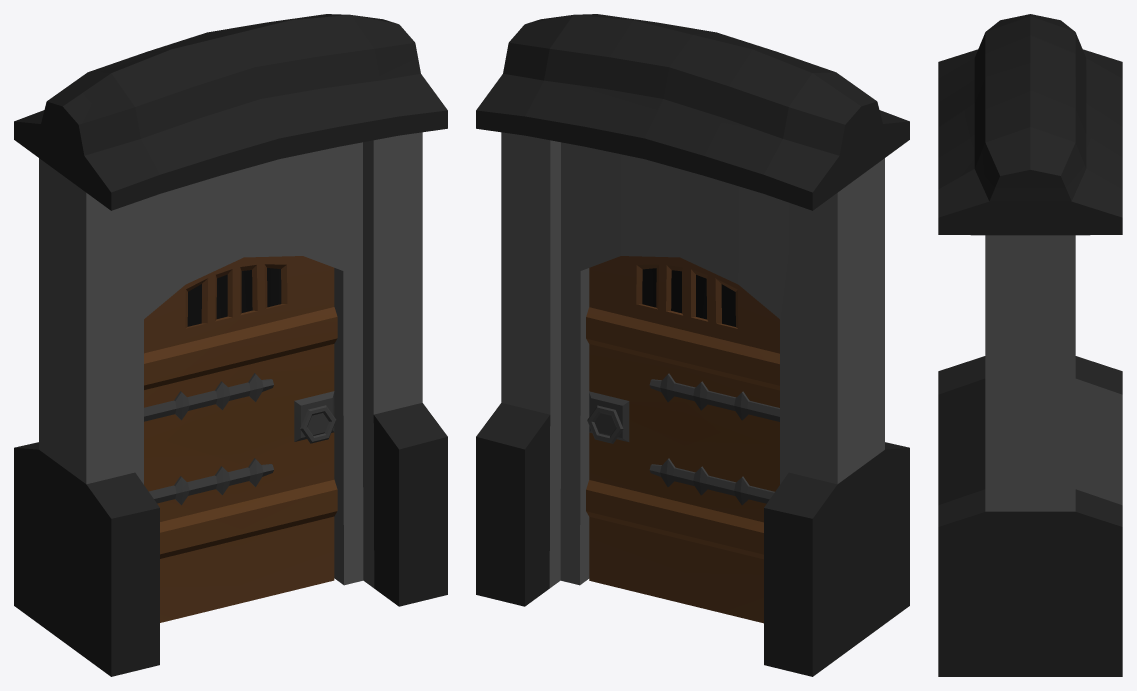
File: Door_archway_C.fbx
The picture shows the model from 3 angles, left to right: view 1: azimuth 30°, elevation 25°; view 2: azimuth 150°, elevation 25°; view 3: azimuth 270°, elevation 25°; orthographic projection. The views are drawn at different scales.
Parts seen in each view (by area): view 1: Door_archway_C, Door.003; view 2: Door_archway_C, Door.003; view 3: Door_archway_C.
Boxes of the visible parts, <box> form: Door_archway_C: <box>14,14,447,676</box>; Door.003: <box>144,256,337,622</box>; Door_archway_C: <box>476,14,909,676</box>; Door.003: <box>586,256,779,623</box>; Door_archway_C: <box>938,14,1122,676</box>.
Bounding box in the file's own units: 200 × 321 × 100.
